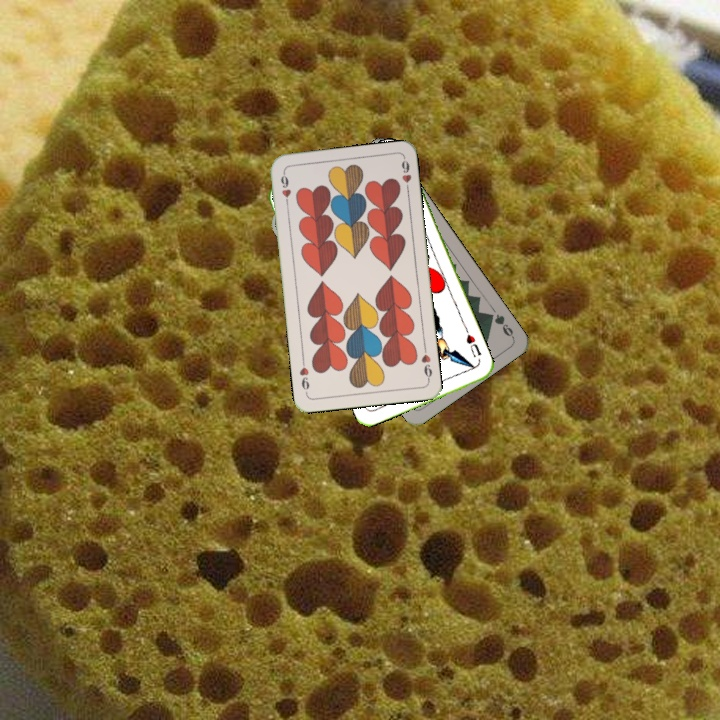G9: (483, 309, 516, 341)
H9: (417, 343, 435, 383), (277, 168, 293, 209)
HU: (462, 326, 484, 359)
